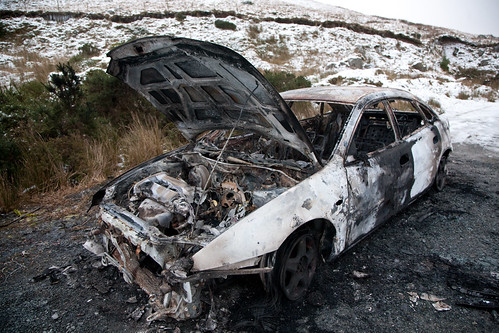car: (96, 63, 453, 316)
